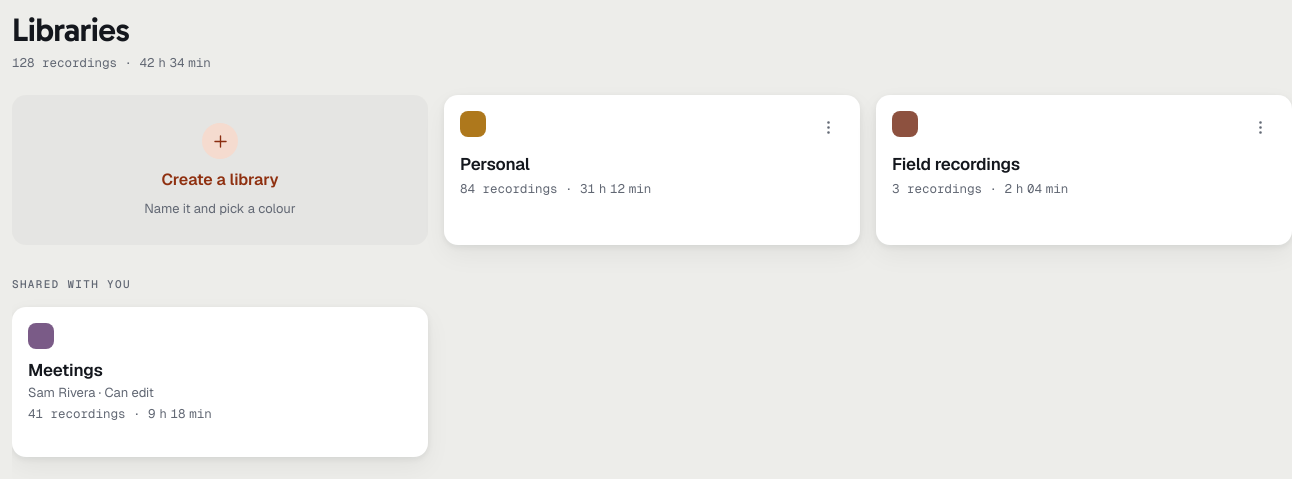
Test: a card › offers the trash on the personal library too, once there is another
Click the button named "Options for Field recordings": (1260, 127) [1244, 111, 1276, 143]
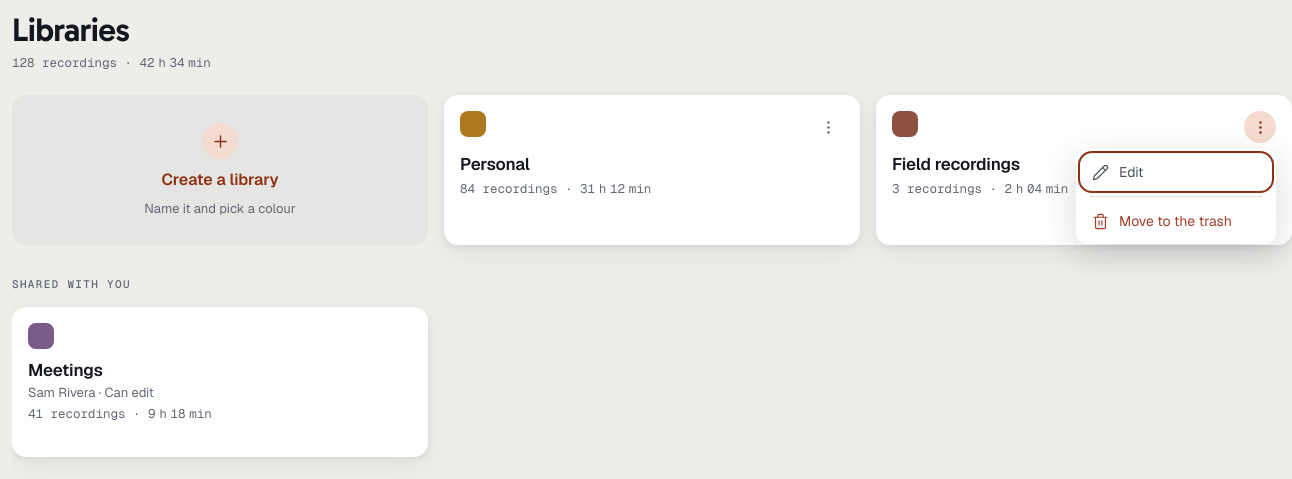
Expected: the menu item "Move to the trash" is shown, [1082, 204, 1270, 238]
Press Escape
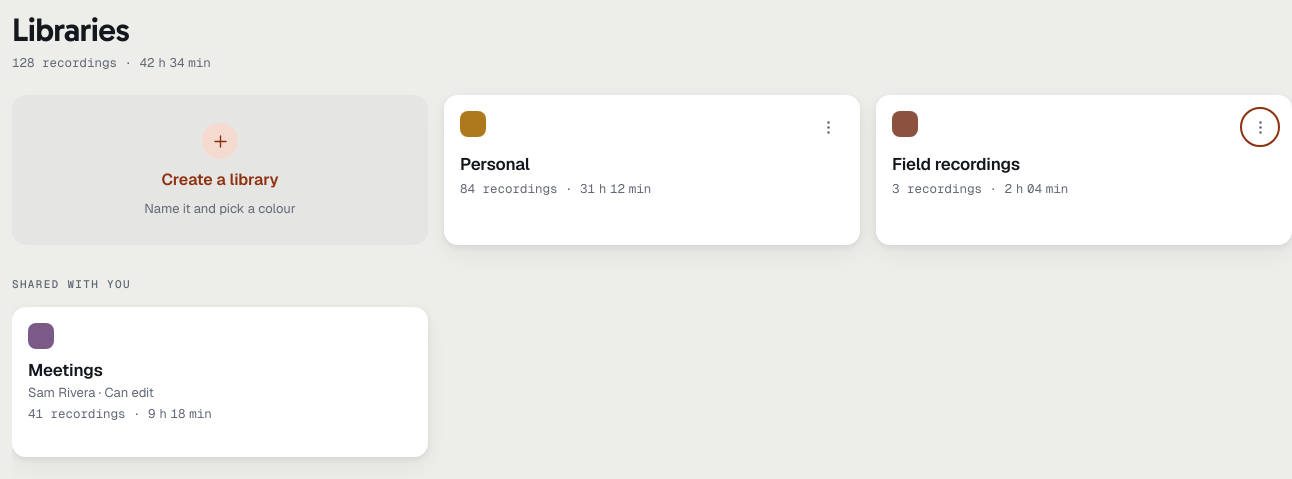
Click the button named "Options for Personal": (828, 127) [812, 111, 844, 143]
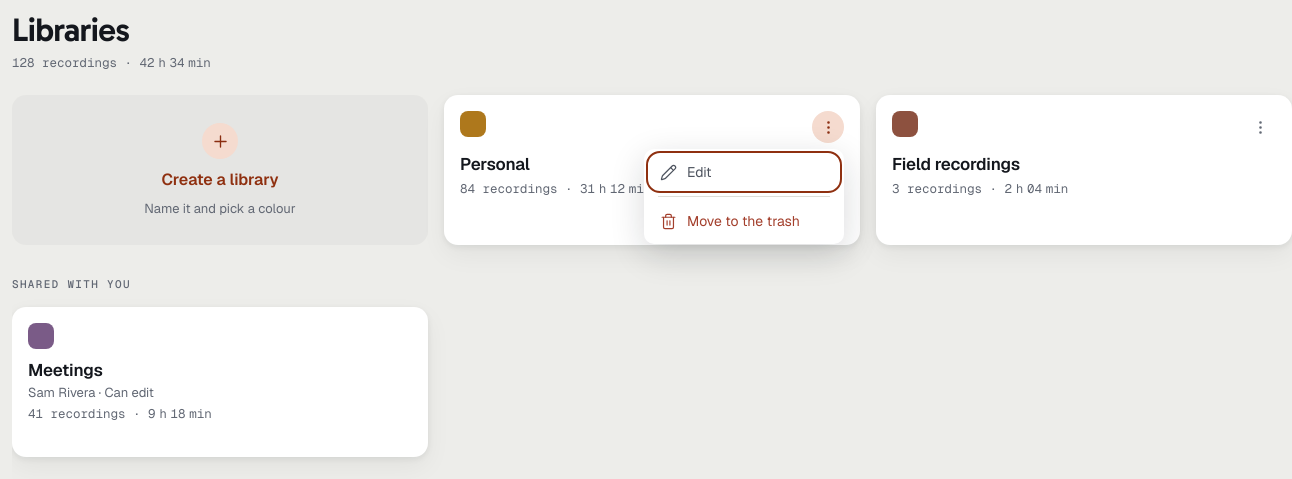
Expected: the menu item "Move to the trash" is shown, [650, 204, 838, 238]
